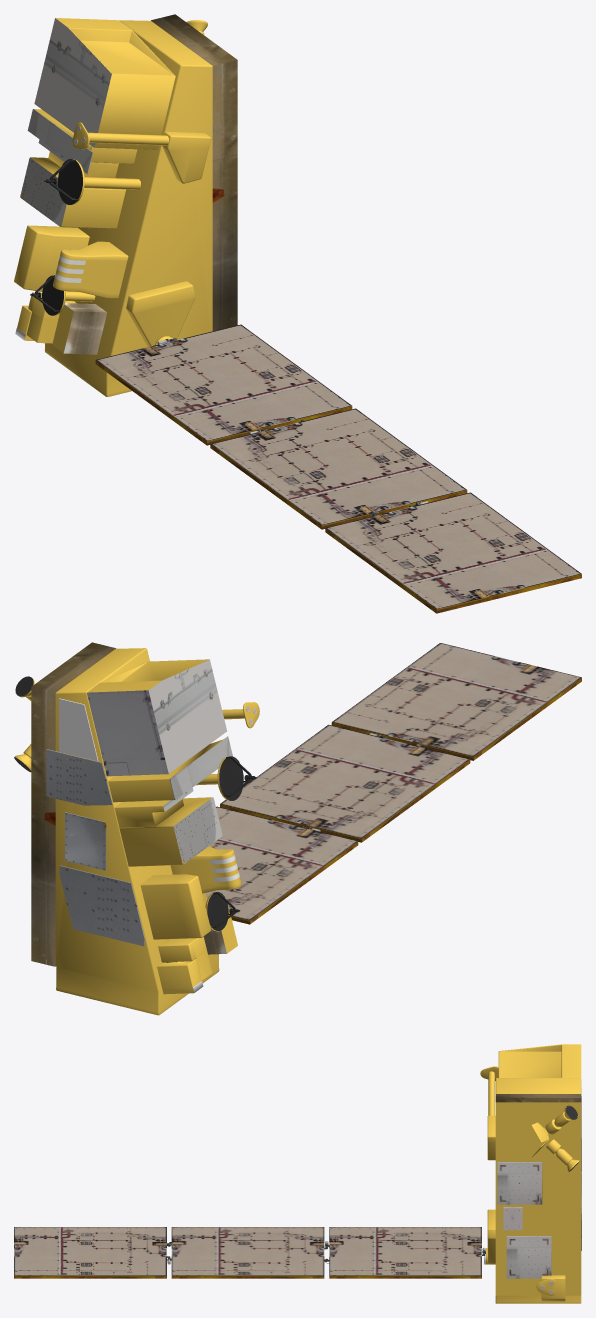
File: NPP.glb
3 views of the same model, one above another, from view 1: azimuth 30°, elevation 25°; view 2: azimuth 150°, elevation 25°; view 3: azimuth 270°, elevation 25° (orthographic). The views are drawn at different scales.
Visible parts, largest first — view 1: tex_01, foil_gold, tex_02, AO_01; view 2: tex_01, foil_gold, tex_02, AO_01, foil_silver; view 3: tex_01, foil_gold, tex_02.
Part boxes in pixels (x1,y1,x2,y2): tex_01: (74,126,581,613); foil_gold: (14,18,212,396); tex_02: (20,14,237,354); AO_01: (30,159,82,315); tex_01: (46,643,581,946); foil_gold: (15,648,259,1015); tex_02: (31,642,232,966); AO_01: (14,676,256,930); foil_silver: (193,855,239,992); tex_01: (14,1133,581,1293); foil_gold: (480,1044,581,1303); tex_02: (495,1087,581,1133).
Bounding box in the file's own units: 2.57 × 4.19 × 8.96.
Materials: 6 (4 with a texture image).
